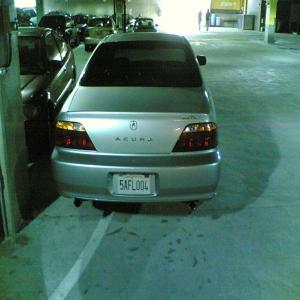Vehicle-registration-plate: (102, 169, 166, 201)
